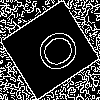O: (25, 25, 84, 82)
